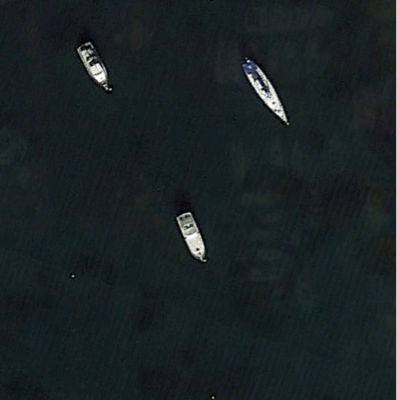boat: (241, 57, 290, 126), (76, 40, 113, 95), (176, 211, 209, 264)
